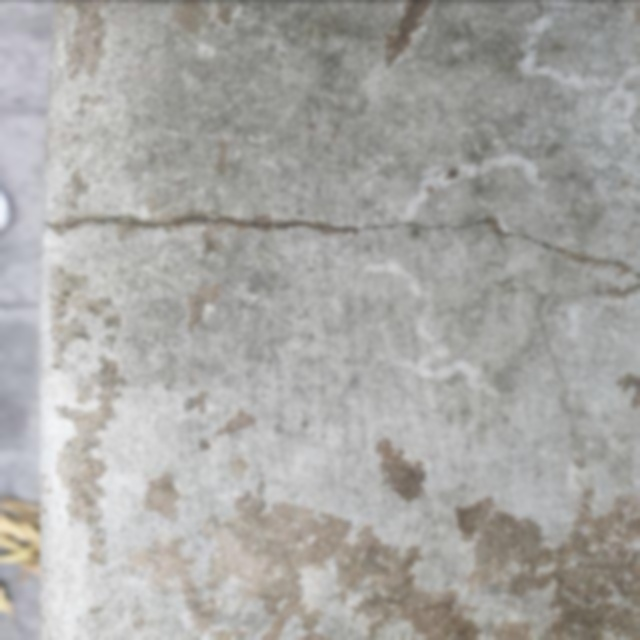SurfaceCrack: (45, 167, 640, 316)
